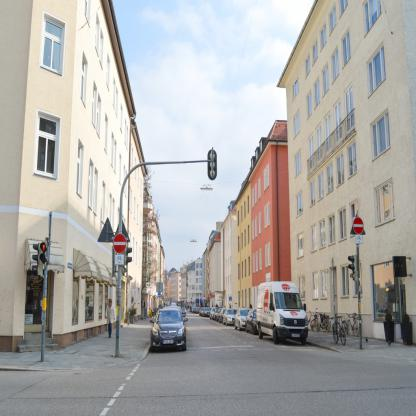Ambulance: (257, 280, 308, 347)
